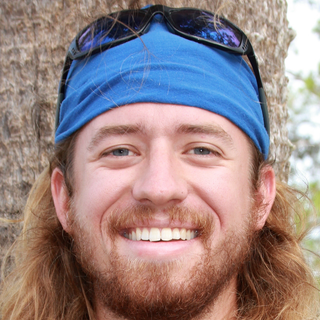eye: (95, 142, 145, 165), (177, 141, 226, 164)
